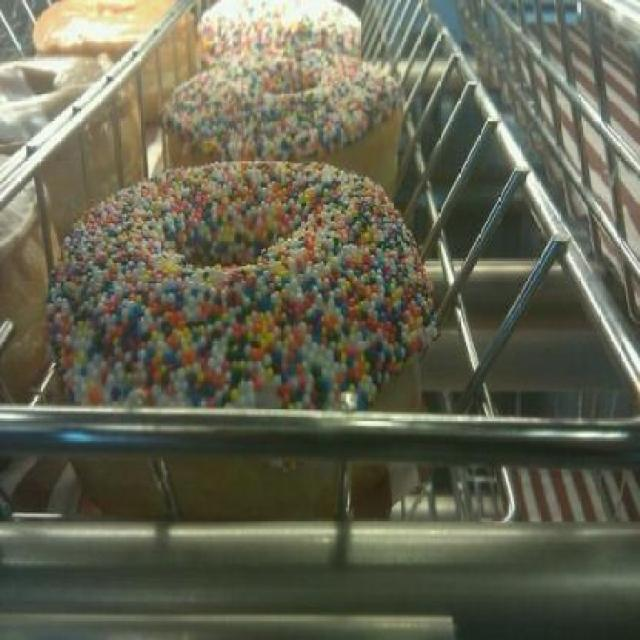Donuts: (35, 1, 460, 434)
